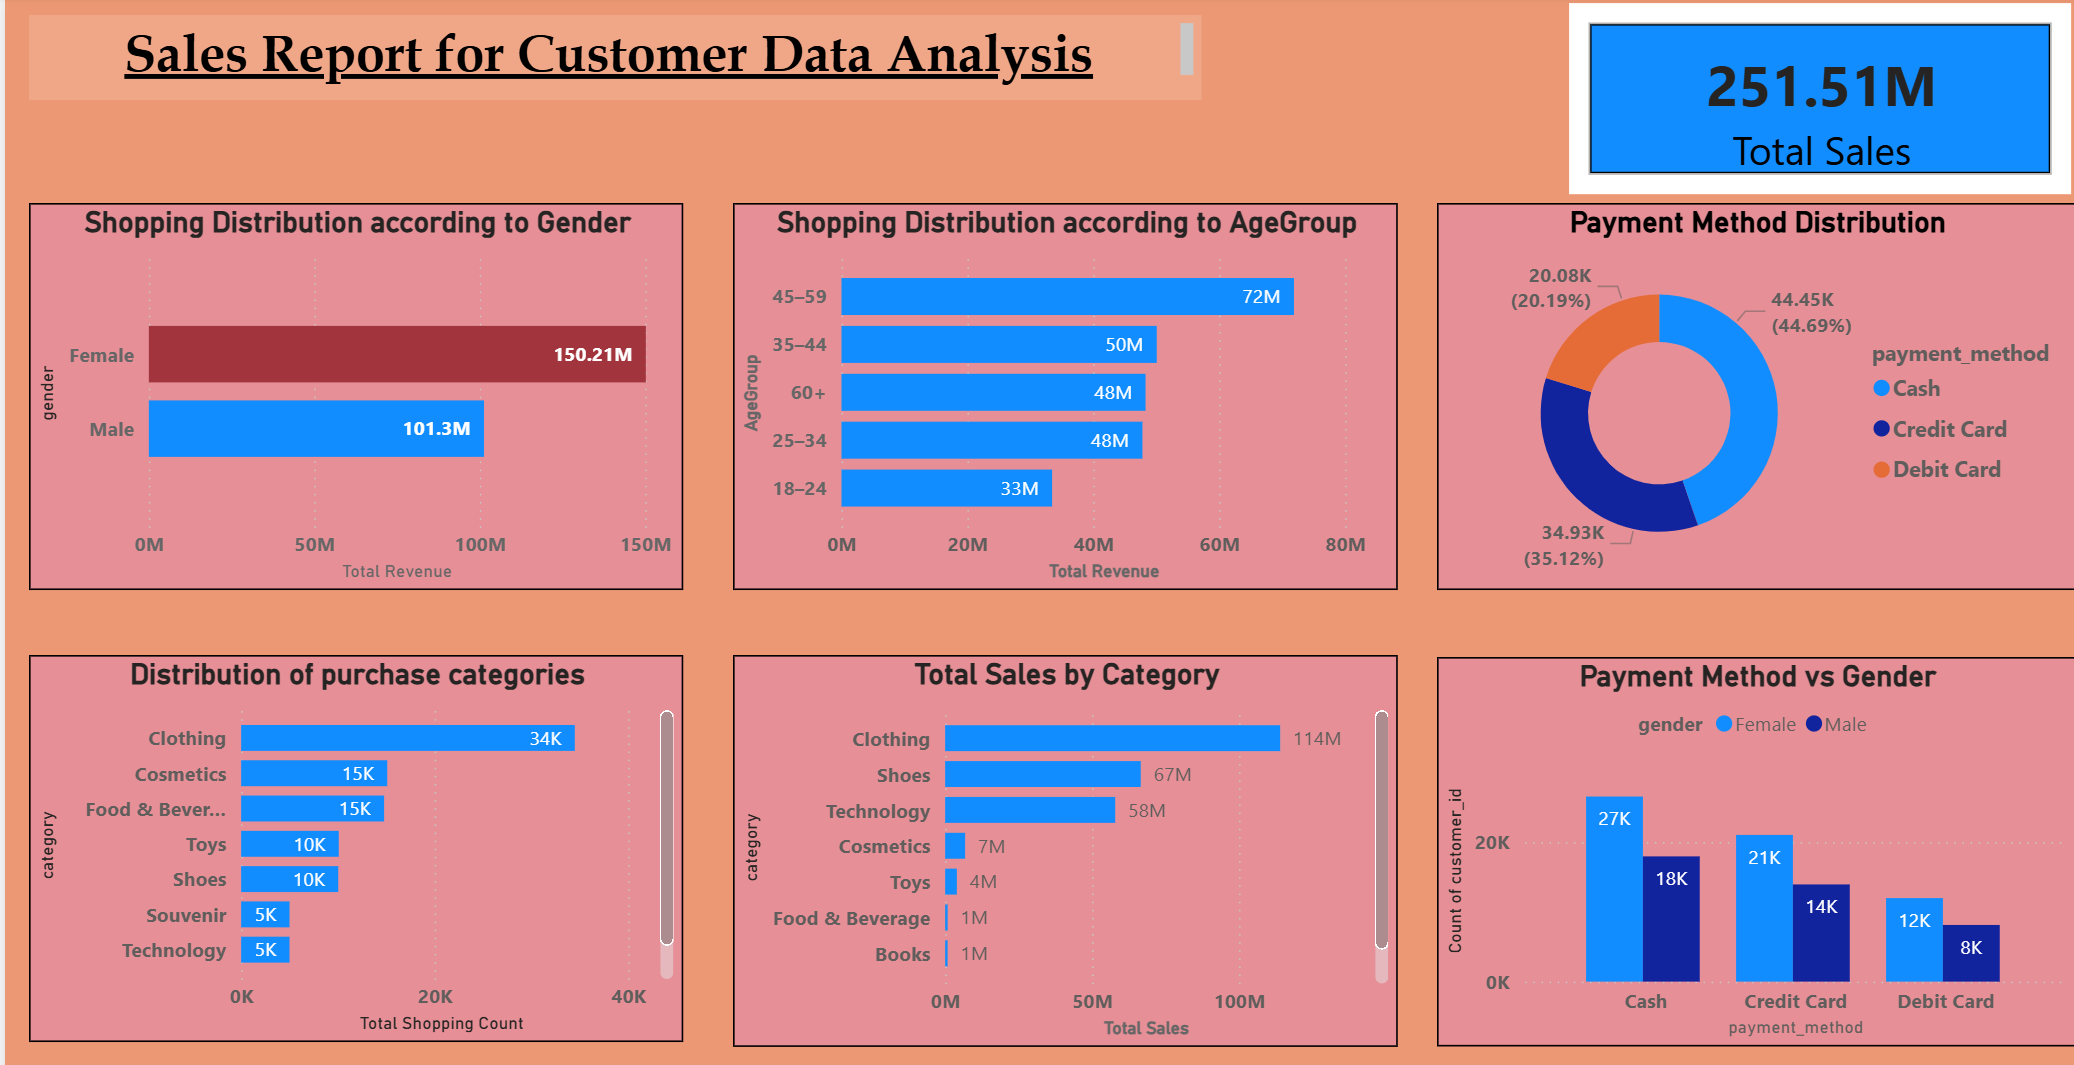

The page's visual inventory and layout, read from the dashboard file:
{"tool":"powerbi","page":{"name":"Page 1","canvas":[1280,720],"ordinal":0},"visuals":[{"type":"clusteredBarChart","title":"Shopping Distribution according to Gender","fields":{"Category":["project_customer_segmentation customer.gender"],"Y":["Customer.Total Sales"]},"box":[14.9,128.3,403.9,239.1],"z":0},{"type":"barChart","title":"Shopping Distribution according to AgeGroup","fields":{"Category":["project_customer_segmentation customer.AgeGroup"],"Y":["Customer.Total Sales"]},"box":[449.8,128.3,410.7,239.1],"z":1},{"type":"cardVisual","fields":{"Data":["Customer.Total Sales"]},"box":[960.5,0,320.2,128.3],"z":2},{"type":"barChart","title":"Distribution of purchase categories","fields":{"Category":["Customer.category"],"Y":["CountNonNull(Customer.invoice_no)"]},"box":[14.9,408,403.9,239.1],"z":3},{"type":"donutChart","title":"Payment Method Distribution","fields":{"Category":["Customer.payment_method"],"Y":["CountNonNull(Customer.customer_id)"]},"box":[884.8,128.3,394.4,239.1],"z":4},{"type":"clusteredColumnChart","title":"Payment Method vs Gender","fields":{"Category":["Customer.payment_method"],"Series":["Customer.gender"],"Y":["CountNonNull(Customer.customer_id)"]},"box":[884.8,409.3,394.4,240.5],"z":5},{"type":"barChart","title":"Total Sales by Category","fields":{"Y":["Customer.Total Revenue"],"Category":["Customer.category"]},"box":[449.8,408,410.7,241.8],"z":6},{"type":"textbox","box":[14.9,12.2,724.1,52.7],"z":7}]}

Visuals, with their boxes on the page's 1280x720 design canvas (x1, y1, x2, y2). These are canvas units, not pixel positions in the 2074x1065 screenshot, which may show the page scaled, cropped or inside an application window:
"Shopping Distribution according to Gender" clusteredBarChart: box(15, 128, 419, 367)
"Shopping Distribution according to AgeGroup" barChart: box(450, 128, 860, 367)
cardVisual - Customer.Total Sales: box(960, 0, 1281, 128)
"Distribution of purchase categories" barChart: box(15, 408, 419, 647)
"Payment Method Distribution" donutChart: box(885, 128, 1279, 367)
"Payment Method vs Gender" clusteredColumnChart: box(885, 409, 1279, 650)
"Total Sales by Category" barChart: box(450, 408, 860, 650)
textbox: box(15, 12, 739, 65)
